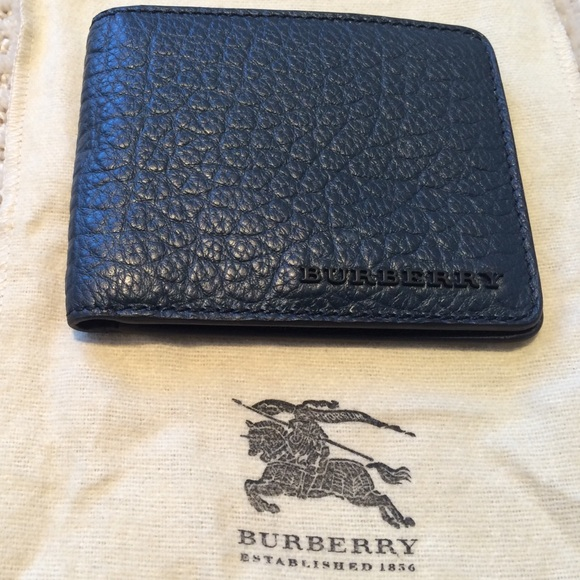monedero: (62, 5, 546, 347)
